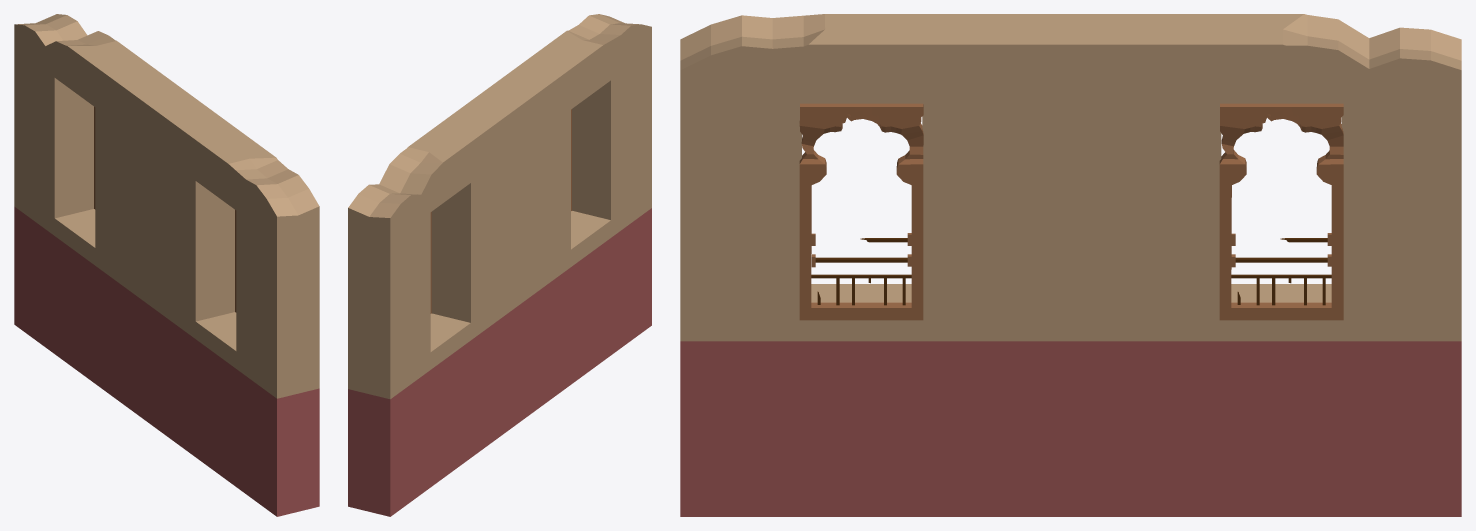
The model's file is Wall WindowFNL.fbx.
3 views of the same model, side by side, from view 1: azimuth 30°, elevation 25°; view 2: azimuth 150°, elevation 25°; view 3: azimuth 270°, elevation 25° (orthographic). The views are drawn at different scales.
Parts seen in each view (by area): view 1: Wall Window; view 2: Wall Window; view 3: Wall Window.
Part boxes in pixels (box(x1,y1,x2,y2)): Wall Window: box(14, 14, 319, 516); Wall Window: box(348, 14, 651, 516); Wall Window: box(680, 14, 1461, 516).
Size of the model in its own units: 1500 by 1000 by 156.
